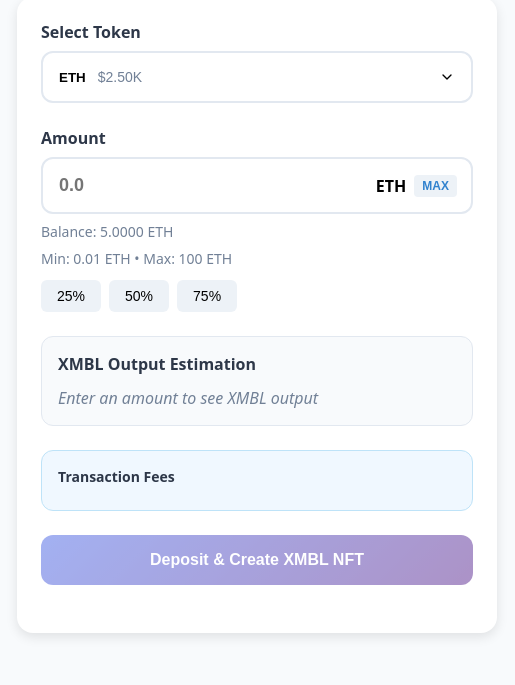
Test: DepositForm › should set max amount when MAX button clicked
What coordinates should you click on to do the following:
click the button with test id "max-button"
I would click on:
 (436, 186)
Its box is [414,174,457,196].
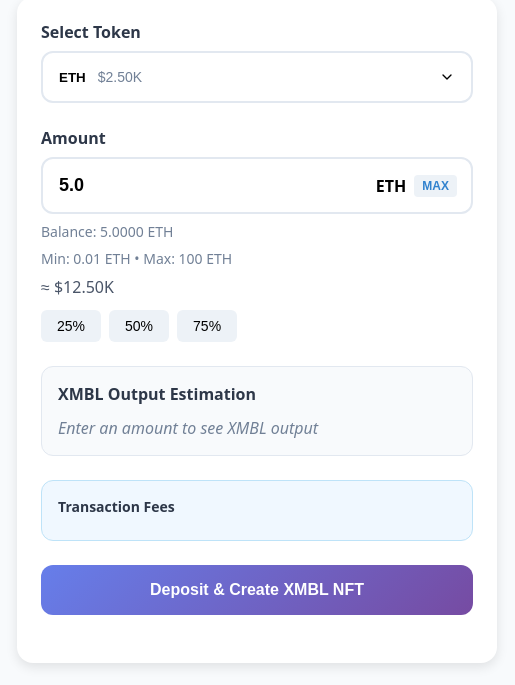
Result: the field with test id "amount-input" holds "5.0" at [41,157,473,214]
